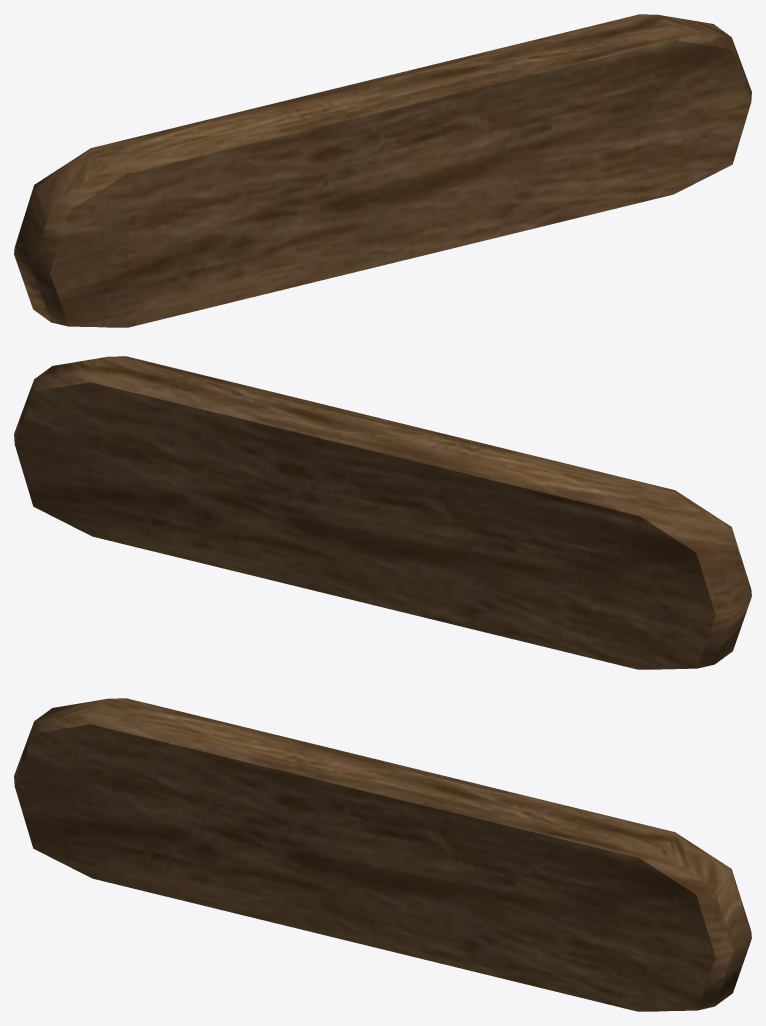
Rendered from sign-arrow03.glb.
The picture shows the model from 3 angles, top to bottom: view 1: azimuth 30°, elevation 25°; view 2: azimuth 150°, elevation 25°; view 3: azimuth 330°, elevation 25°; orthographic projection.
Visible parts, largest first — view 1: SignArrow03; view 2: SignArrow03; view 3: SignArrow03.
Boxes of the visible parts, x1,y1,x2,y2 form: SignArrow03: (14, 14, 751, 327); SignArrow03: (14, 356, 751, 669); SignArrow03: (14, 698, 751, 1011).
Size of the model in its own units: 0.795 by 0.1695 by 0.0679.
1 material, 1 textured.
